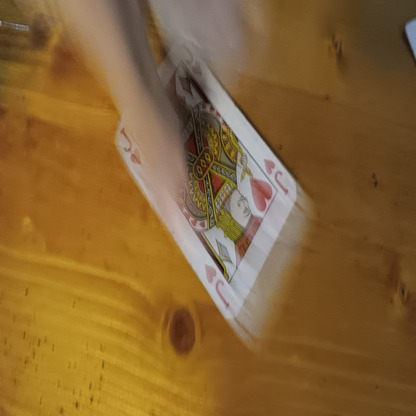Jh: (202, 262, 236, 312), (116, 127, 144, 172), (263, 159, 291, 194), (180, 41, 203, 80)
